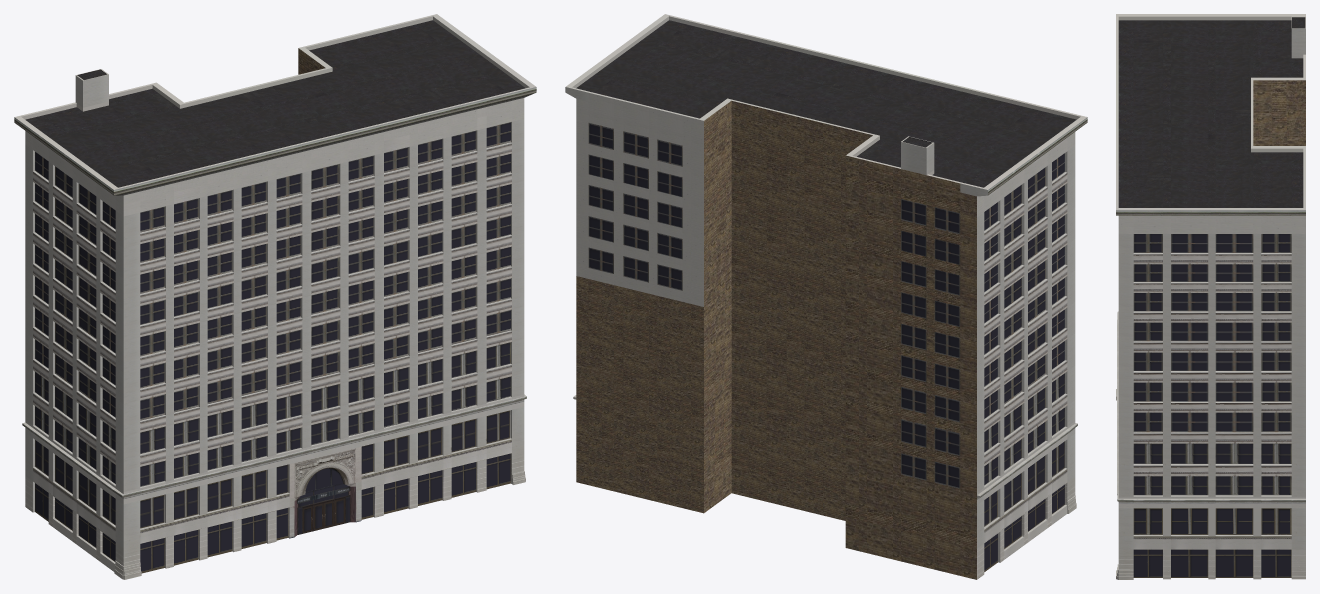
The model's file is flourexchange.obj.
The picture shows the model from 3 angles, left to right: view 1: azimuth 30°, elevation 25°; view 2: azimuth 150°, elevation 25°; view 3: azimuth 270°, elevation 25°; orthographic projection. The views are drawn at different scales.
Visible parts, largest first — view 1: Cube; view 2: Cube; view 3: Cube.
Boxes of the visible parts, x1,y1,x2,y2 form: Cube: (14,14,536,579); Cube: (565,14,1087,579); Cube: (1116,14,1305,579).
Bounding box in the file's own units: 4957 × 4704 × 2025.
1 material, 1 textured.
